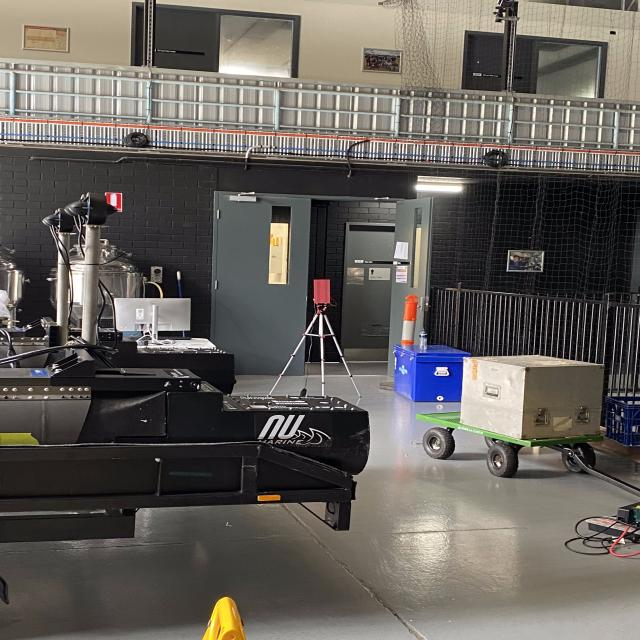matrix: (305, 274, 341, 309)
